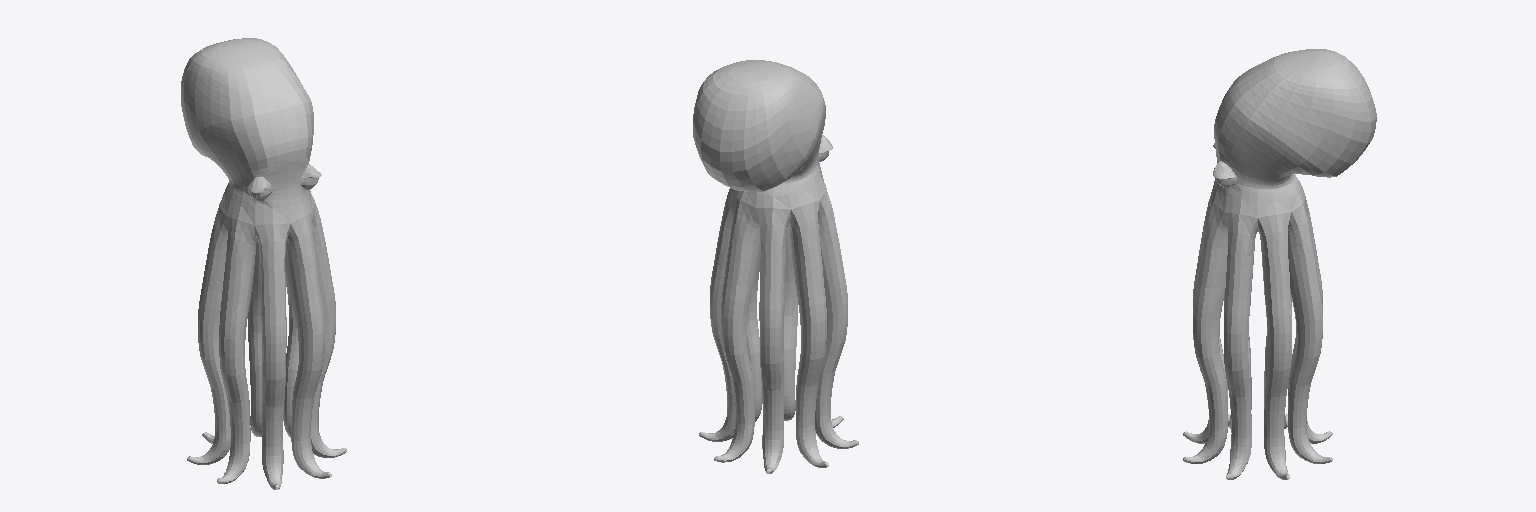
Rendered from octopus2.obj.
The picture shows the model from 3 angles: view 1: azimuth 30°, elevation 25°; view 2: azimuth 150°, elevation 25°; view 3: azimuth 270°, elevation 25°; orthographic projection.
Parts seen in each view (by area): view 1: octopus2; view 2: octopus2; view 3: octopus2.
Part boxes in pixels (left/top/right/bottom): octopus2: left=181, top=38, right=346, bottom=489; octopus2: left=693, top=60, right=858, bottom=473; octopus2: left=1183, top=49, right=1376, bottom=479.
Size of the model in its own units: 0.3685 by 1.07 by 0.4766.